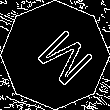M_SW: (21, 21, 89, 89)
